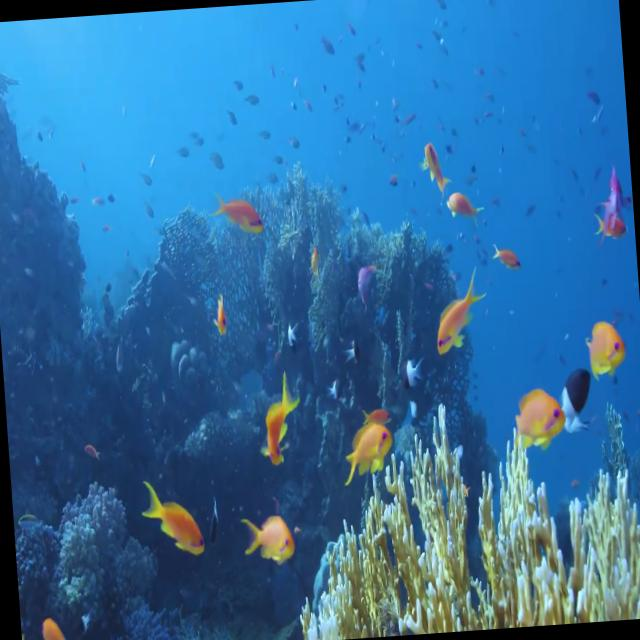fish: (144, 476, 204, 558), (428, 272, 484, 354), (256, 372, 303, 463), (343, 420, 398, 486), (512, 389, 568, 449), (244, 508, 298, 564), (555, 361, 593, 438), (586, 320, 630, 381), (216, 193, 260, 240)
